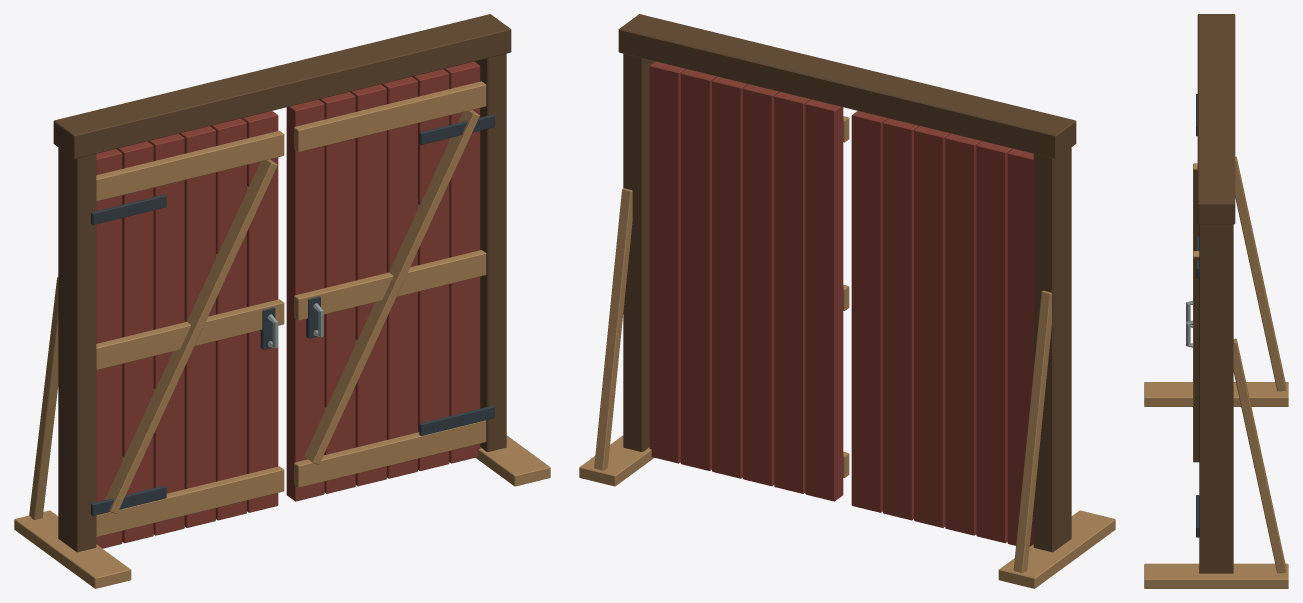
The model's file is S004_barn_double_door_rebuilt.glb.
The picture shows the model from 3 angles, left to right: view 1: azimuth 30°, elevation 25°; view 2: azimuth 150°, elevation 25°; view 3: azimuth 270°, elevation 25°; orthographic projection. The views are drawn at different scales.
Parts seen in each view (by area): view 1: Barn_faded_red_paint, Scenic_framing_warm_bare_timber, Dark_stained_structural_timber, Dark_painted_steel; view 2: Barn_faded_red_paint, Dark_stained_structural_timber, Scenic_framing_warm_bare_timber; view 3: Dark_stained_structural_timber, Scenic_framing_warm_bare_timber, Dark_painted_steel, Bare_brushed_hardware.
Part boxes in pixels (<box>): Barn_faded_red_paint: <box>96,61,480,548</box>; Scenic_framing_warm_bare_timber: <box>14,81,550,588</box>; Dark_stained_structural_timber: <box>53,14,511,552</box>; Dark_painted_steel: <box>91,114,494,515</box>; Barn_faded_red_paint: <box>649,61,1033,546</box>; Dark_stained_structural_timber: <box>618,14,1076,552</box>; Scenic_framing_warm_bare_timber: <box>579,116,1115,588</box>; Dark_stained_structural_timber: <box>1197,14,1235,573</box>; Scenic_framing_warm_bare_timber: <box>1144,156,1288,588</box>; Dark_painted_steel: <box>1196,94,1199,537</box>; Bare_brushed_hardware: <box>1186,300,1192,347</box>.
Size of the model in its own units: 3 by 2.7 by 0.925.
